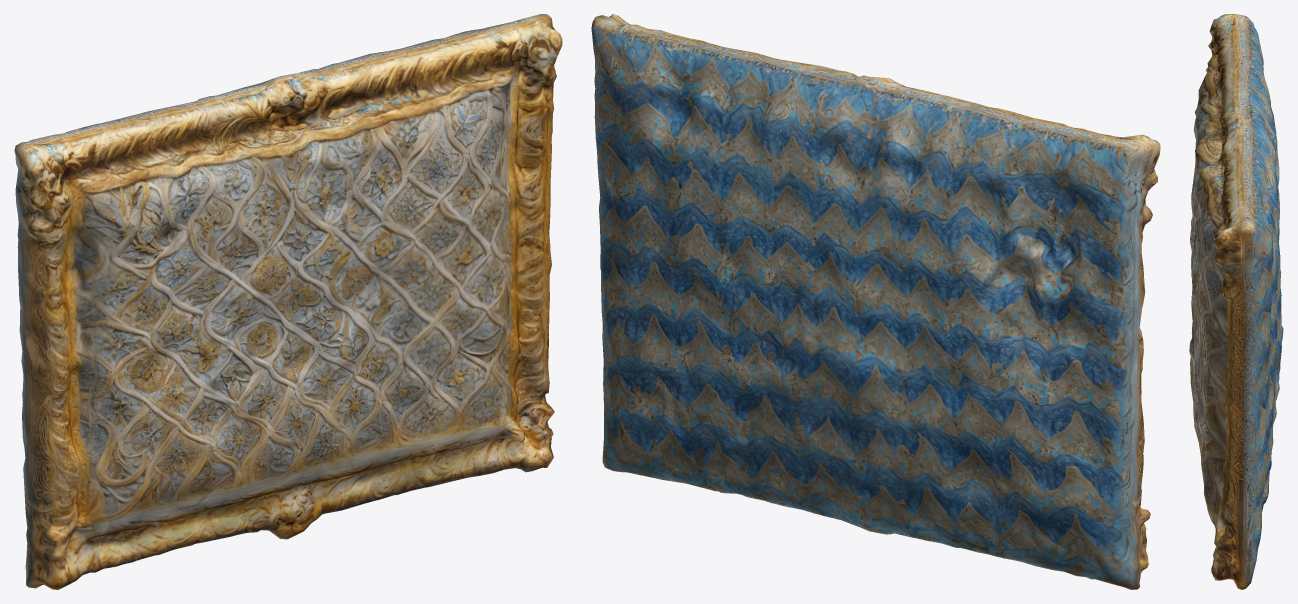
Rendered from museum.glb.
3 renders of one model, left to right at view 1: azimuth 30°, elevation 25°; view 2: azimuth 150°, elevation 25°; view 3: azimuth 270°, elevation 25°, orthographic. The views are drawn at different scales.
Bounding box in the file's own units: 1.2 × 0.9579 × 0.2183.
Materials: 1 (1 with a texture image).
